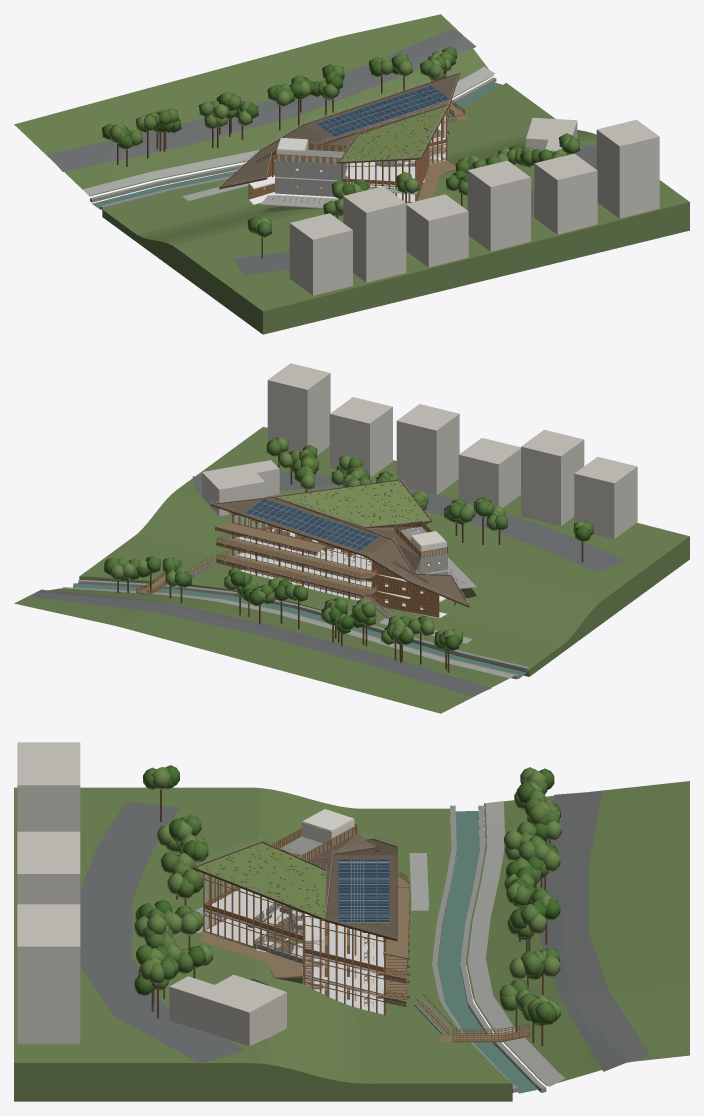
The picture shows the model from 3 angles, top to bottom: view 1: azimuth 30°, elevation 25°; view 2: azimuth 150°, elevation 25°; view 3: azimuth 270°, elevation 25°; orthographic projection. The views are drawn at different scales.
Parts seen in each view (by area): view 1: V4_08_地形與周邊, 鄰棟與植栽, 02_屋頂, V4_06_核心與隔間, V4_04_玻璃與門窗, V4_01_樓板與基礎; view 2: V4_08_地形與周邊, 鄰棟與植栽, 02_屋頂, 05_陽台遮棚, 04_門窗, V4_01_樓板與基礎, V4_06_核心與隔間, 03_木構; view 3: V4_08_地形與周邊, 鄰棟與植栽, 02_屋頂, V4_04_玻璃與門窗, V4_01_樓板與基礎, V4_06_核心與隔間, 05_陽台遮棚, V4_10_樓梯與挑空, V4_07_家具與設備.
Boxes of the visible parts, x1=… form: V4_08_地形與周邊: x1=14, y1=14, x2=689, y2=334; 鄰棟與植栽: x1=102, y1=46, x2=659, y2=295; 02_屋頂: x1=219, y1=69, x2=460, y2=189; V4_06_核心與隔間: x1=275, y1=137, x2=347, y2=206; V4_04_玻璃與門窗: x1=341, y1=111, x2=447, y2=202; V4_01_樓板與基礎: x1=249, y1=114, x2=445, y2=204; V4_08_地形與周邊: x1=14, y1=427, x2=689, y2=713; 鄰棟與植栽: x1=103, y1=363, x2=637, y2=672; 02_屋頂: x1=210, y1=476, x2=469, y2=607; 05_陽台遮棚: x1=215, y1=522, x2=377, y2=598; 04_門窗: x1=233, y1=513, x2=439, y2=617; V4_01_樓板與基礎: x1=234, y1=528, x2=447, y2=618; V4_06_核心與隔間: x1=394, y1=520, x2=447, y2=607; 03_木構: x1=223, y1=511, x2=455, y2=605; V4_08_地形與周邊: x1=14, y1=781, x2=689, y2=1101; 鄰棟與植栽: x1=17, y1=742, x2=561, y2=1046; 02_屋頂: x1=193, y1=833, x2=397, y2=941; V4_04_玻璃與門窗: x1=195, y1=873, x2=383, y2=1013; V4_01_樓板與基礎: x1=204, y1=888, x2=383, y2=1014; V4_06_核心與隔間: x1=269, y1=809, x2=357, y2=931; 05_陽台遮棚: x1=383, y1=871, x2=409, y2=1014; V4_10_樓梯與挑空: x1=254, y1=902, x2=323, y2=989; V4_07_家具與設備: x1=248, y1=906, x2=374, y2=1006.
Bounding box in the file's own units: 97.15 × 21.5 × 97.
